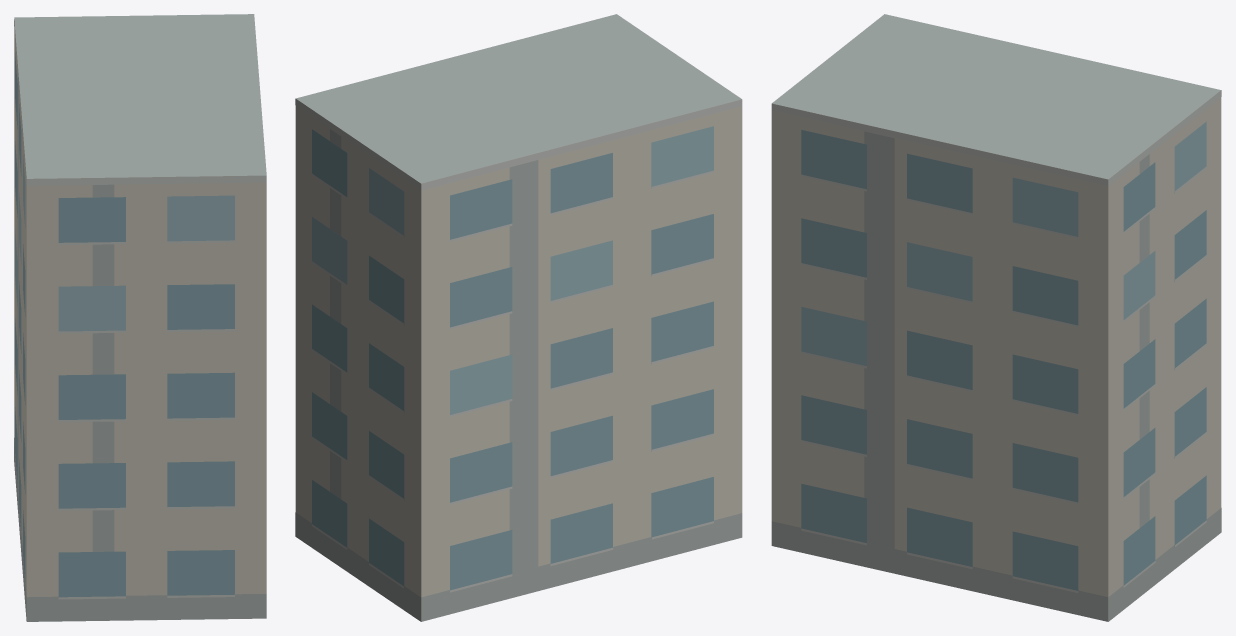
Rendered from residential-6680c891-43b6-4bca-b977-5dee70c3a832.glb.
3 views of the same model, side by side, from view 1: azimuth 30°, elevation 25°; view 2: azimuth 150°, elevation 25°; view 3: azimuth 270°, elevation 25° (orthographic).
Visible parts, largest first — view 1: residential-6680c891-43b6-4bca-b977-5dee70c3a832.tmp; view 2: residential-6680c891-43b6-4bca-b977-5dee70c3a832.tmp; view 3: residential-6680c891-43b6-4bca-b977-5dee70c3a832.tmp.
Part boxes in pixels (left/top/right/bottom): residential-6680c891-43b6-4bca-b977-5dee70c3a832.tmp: left=14, top=14, right=266, bottom=621; residential-6680c891-43b6-4bca-b977-5dee70c3a832.tmp: left=295, top=14, right=742, bottom=621; residential-6680c891-43b6-4bca-b977-5dee70c3a832.tmp: left=771, top=14, right=1221, bottom=621.
Size of the model in its own units: 12.24 by 15.25 by 14.06.
